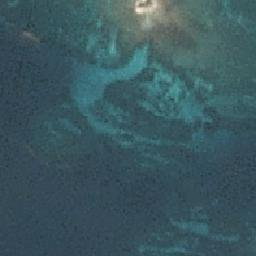debris: (132, 2, 162, 15), (20, 31, 39, 45)
